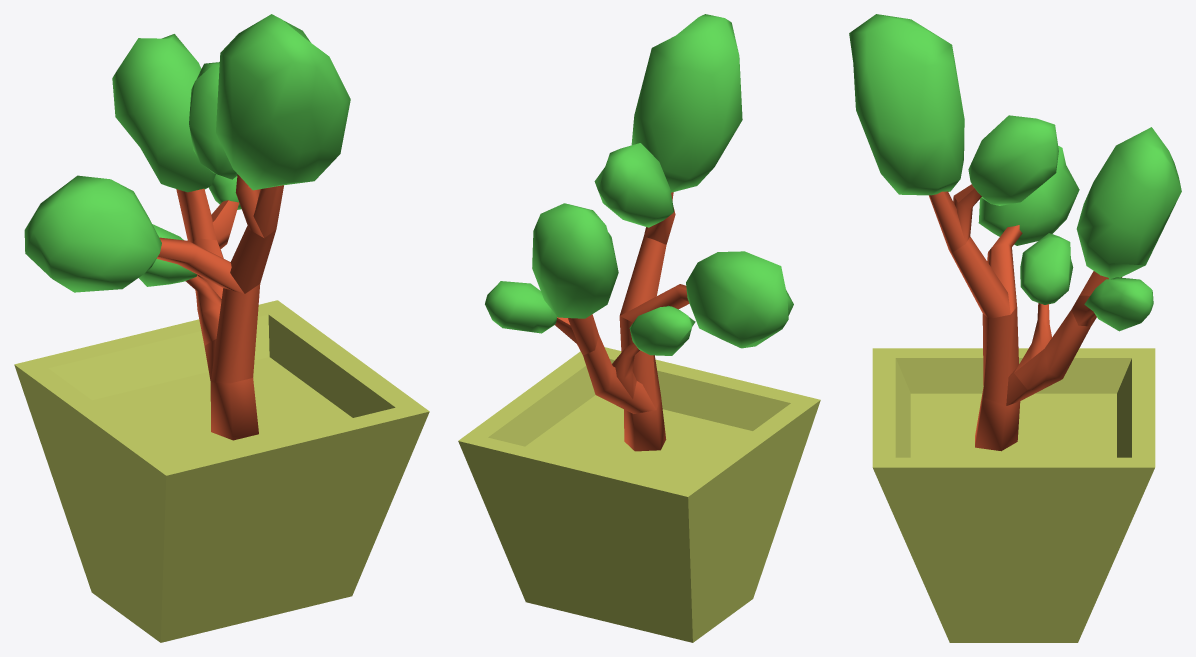
The model's file is Matera.fbx.
The picture shows the model from 3 angles, left to right: view 1: azimuth 30°, elevation 25°; view 2: azimuth 150°, elevation 25°; view 3: azimuth 270°, elevation 25°; orthographic projection. The views are drawn at different scales.
Parts seen in each view (by area): view 1: Icosphere.008; view 2: Icosphere.008; view 3: Icosphere.008.
Boxes of the visible parts, <box> form: Icosphere.008: <box>14,14,429,642</box>; Icosphere.008: <box>458,14,820,642</box>; Icosphere.008: <box>849,14,1181,642</box>.
Bounding box in the file's own units: 134 × 253 × 132.
